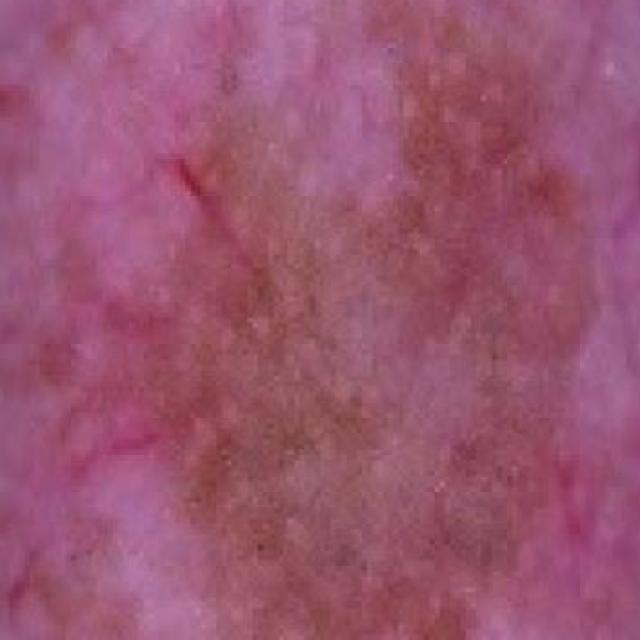BKL: (9, 0, 629, 640)
